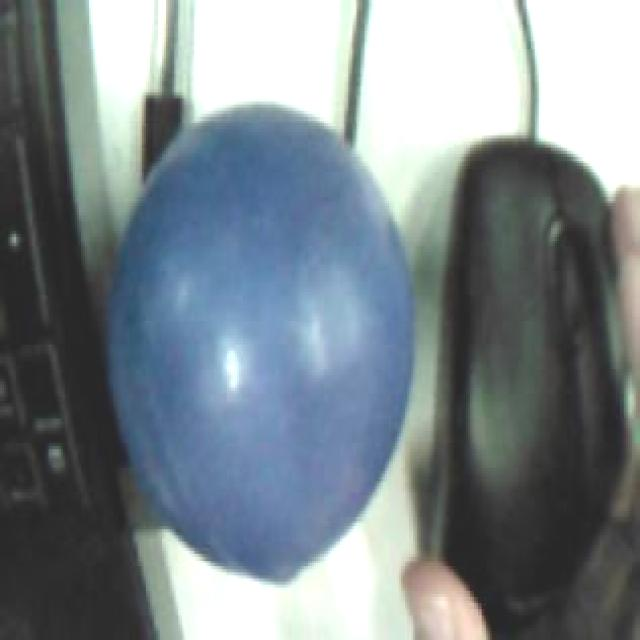BallPurple: (105, 98, 411, 581)
